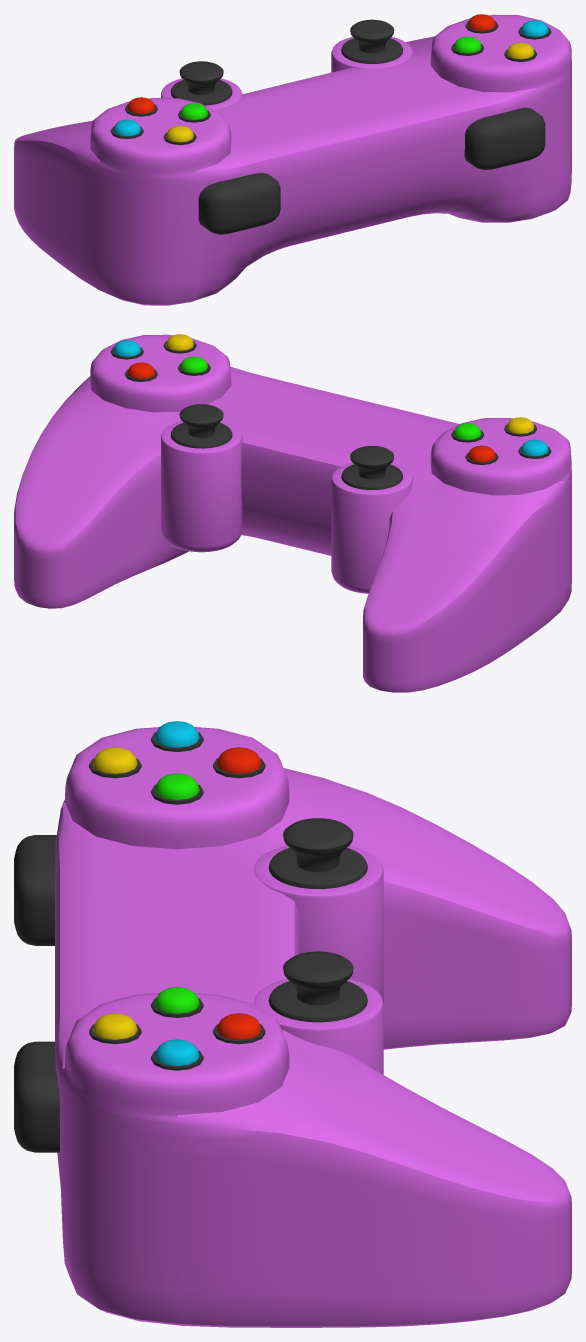
The model's file is manette.fbx.
The picture shows the model from 3 angles, top to bottom: view 1: azimuth 30°, elevation 25°; view 2: azimuth 150°, elevation 25°; view 3: azimuth 270°, elevation 25°; orthographic projection. The views are drawn at different scales.
Parts seen in each view (by area): view 1: Circle.002; view 2: Circle.002; view 3: Circle.002.
Part boxes in pixels (x1,y1,x2,y2): Circle.002: [14, 14, 571, 305]; Circle.002: [14, 334, 571, 692]; Circle.002: [14, 721, 571, 1327].
Bounding box in the file's own units: 68.34 × 23.42 × 43.76.
